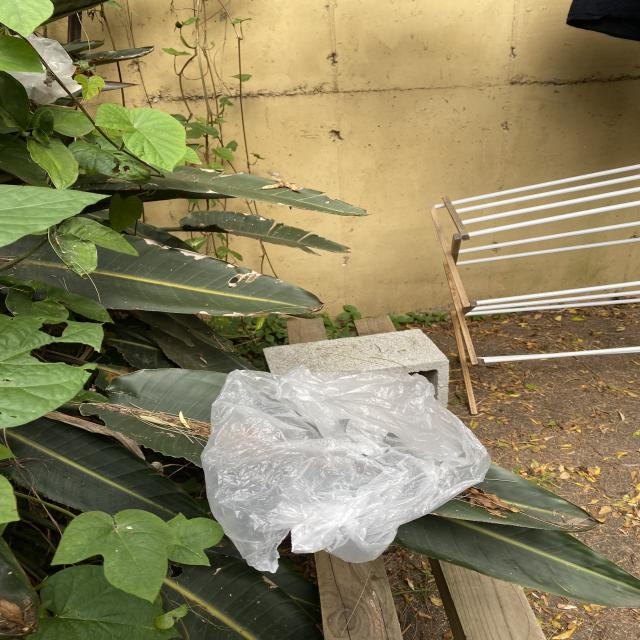bag: (199, 365, 493, 578)
cloth: (6, 26, 87, 118)
